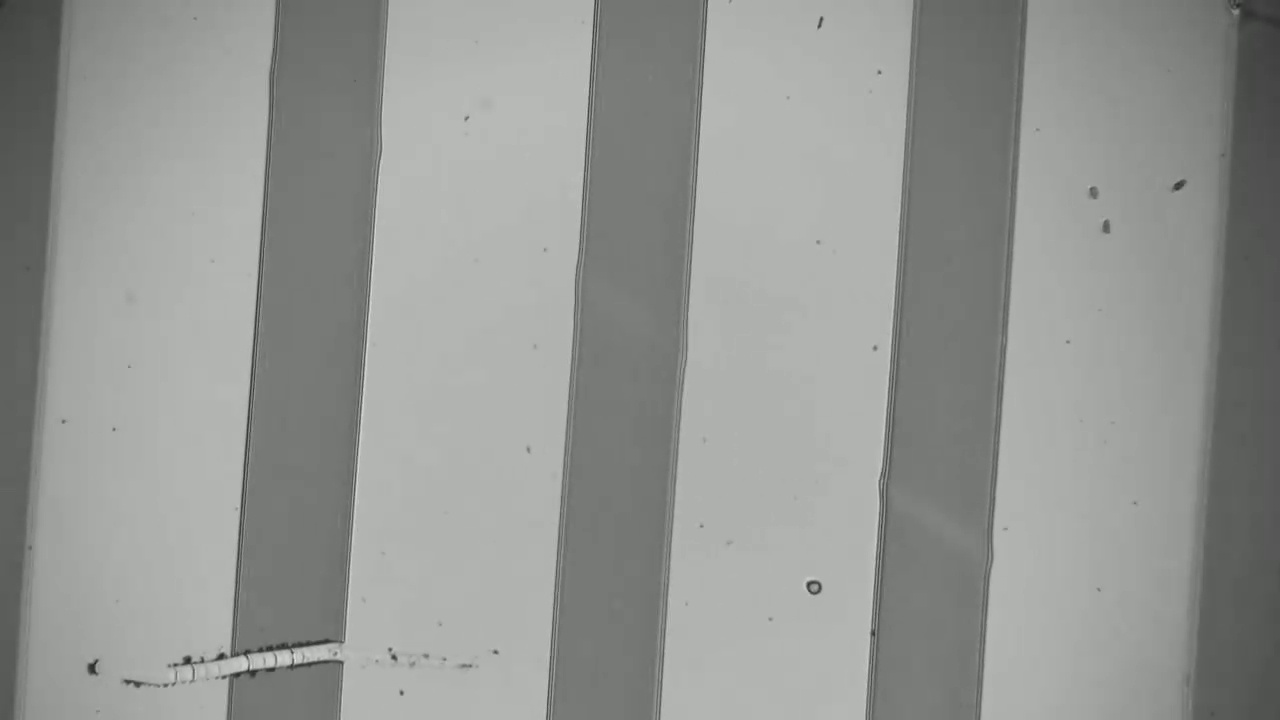Short_circuit: (202, 613, 372, 704)
